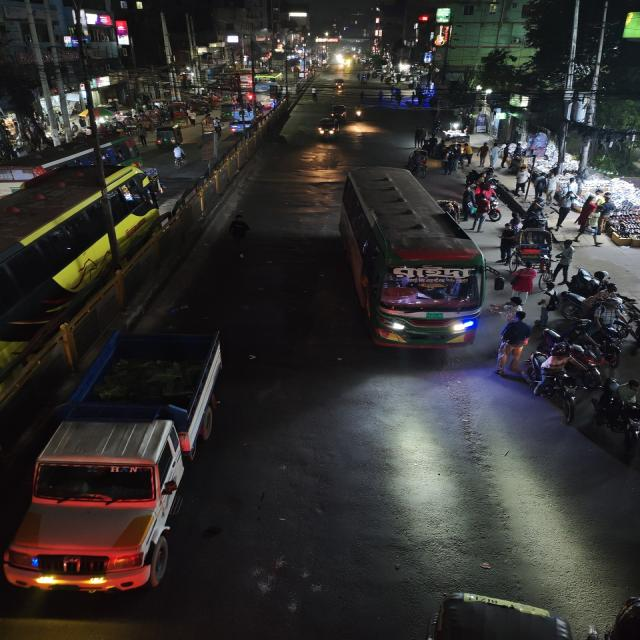bus: (1, 161, 164, 409), (338, 166, 488, 356), (2, 132, 145, 190)
cng: (153, 124, 187, 148), (315, 116, 341, 142), (328, 102, 350, 121)
motorcycle: (588, 377, 640, 447), (527, 348, 580, 416), (352, 104, 366, 122)
pedestrian: (495, 317, 530, 375), (554, 239, 575, 281), (470, 194, 489, 240), (227, 110, 257, 136)
pickup_van: (33, 333, 233, 605)
rickshaw: (512, 226, 555, 278)
